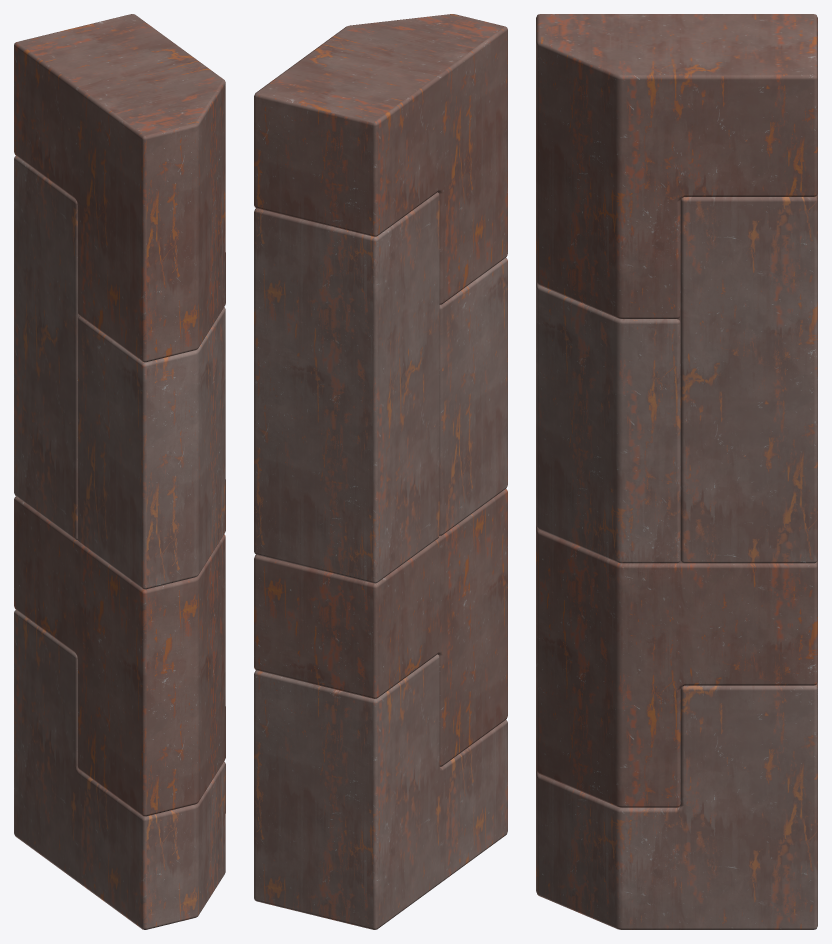
File: wall_005.fbx
3 views of the same model, side by side, from view 1: azimuth 30°, elevation 25°; view 2: azimuth 150°, elevation 25°; view 3: azimuth 270°, elevation 25° (orthographic). The views are drawn at different scales.
Visible parts, largest first — view 1: wall_005; view 2: wall_005; view 3: wall_005.
Boxes of the visible parts, x1,y1,x2,y2 form: wall_005: (14,14,225,929); wall_005: (254,14,507,929); wall_005: (536,14,817,929).
Size of the model in its own units: 3864 by 7210 by 24154.
